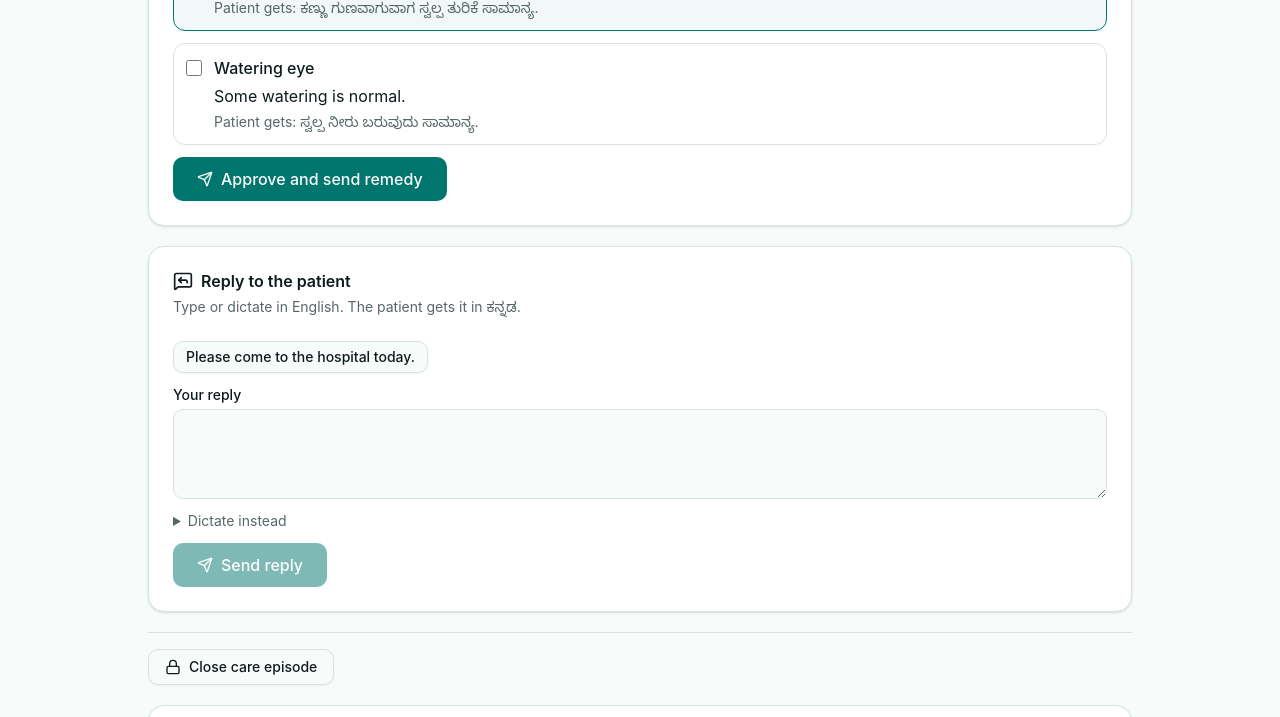
Scenario: a quick reply shows the Kannada preview and is sent once with a key
(page scrolled)
Click the button "Please come to the hospital today.": [300, 357] box [173,341,428,373]
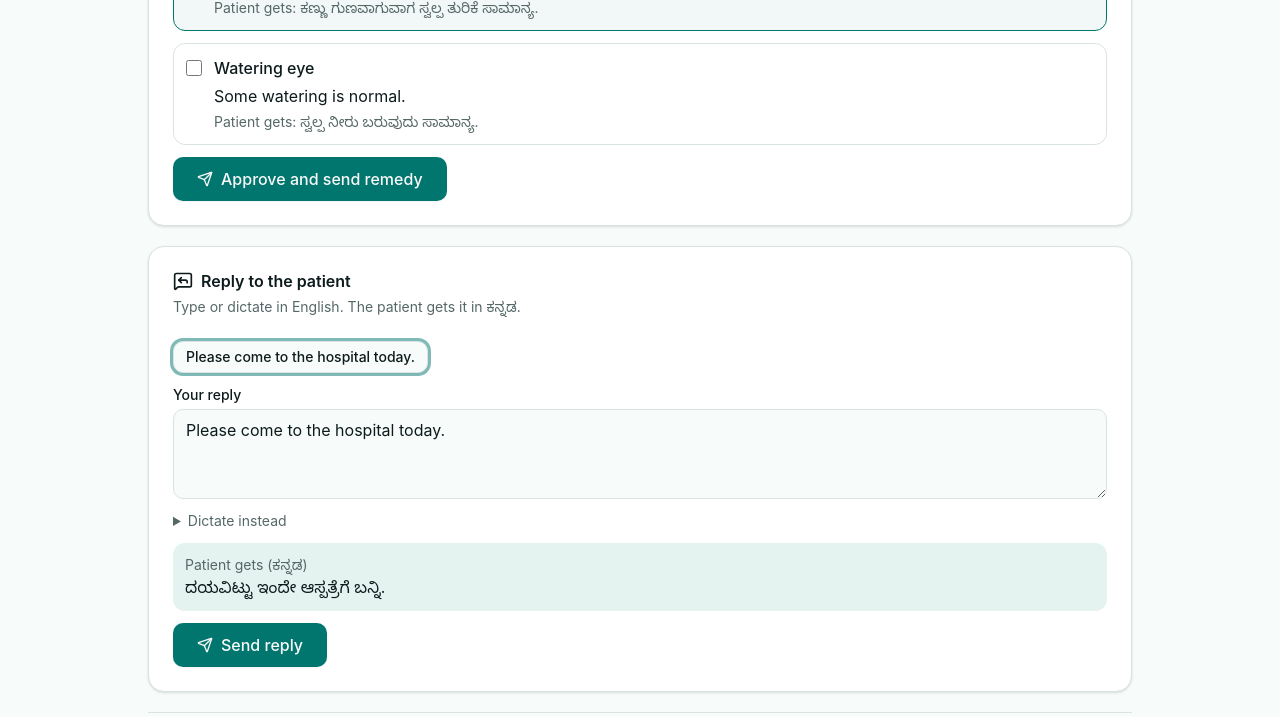
Result: the text "ದಯವಿಟ್ಟು ಇಂದೇ ಆಸ್ಪತ್ರೆಗೆ ಬನ್ನಿ." is shown at [185,577,385,597]
Click the button "Send reply": [250, 645] box [173,623,327,667]
(page scrolled)
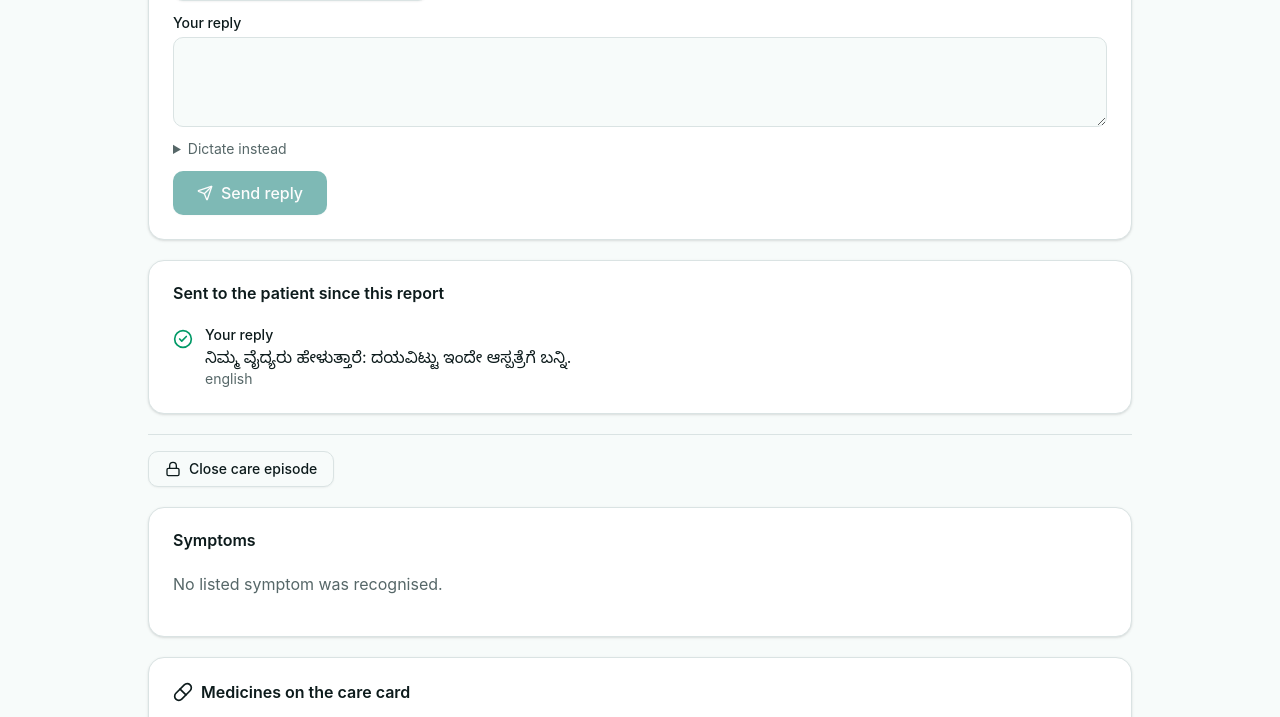
Result: the list named "Sent to the patient" is shown at [173,326,571,387]
